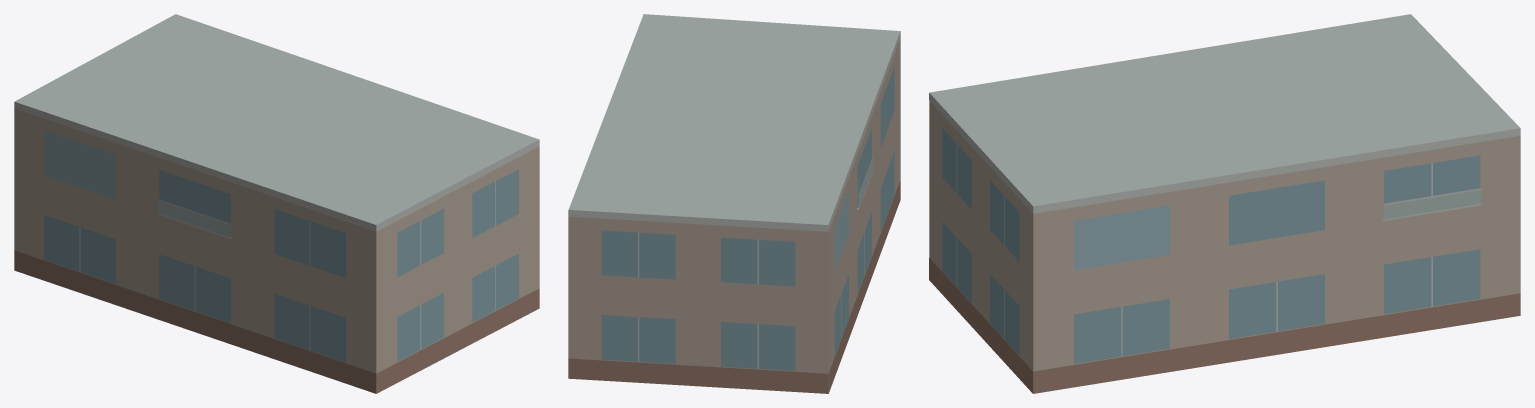
File: survey-upis-32850708.glb
3 views of the same model, side by side, from view 1: azimuth 30°, elevation 25°; view 2: azimuth 150°, elevation 25°; view 3: azimuth 270°, elevation 25° (orthographic). The views are drawn at different scales.
Parts seen in each view (by area): view 1: survey-upis-32850708.tmp; view 2: survey-upis-32850708.tmp; view 3: survey-upis-32850708.tmp.
Part boxes in pixels (<box>): survey-upis-32850708.tmp: <box>14,14,539,393</box>; survey-upis-32850708.tmp: <box>568,14,900,393</box>; survey-upis-32850708.tmp: <box>929,14,1520,393</box>.
Bounding box in the file's own units: 13.44 × 6.1 × 17.45.
